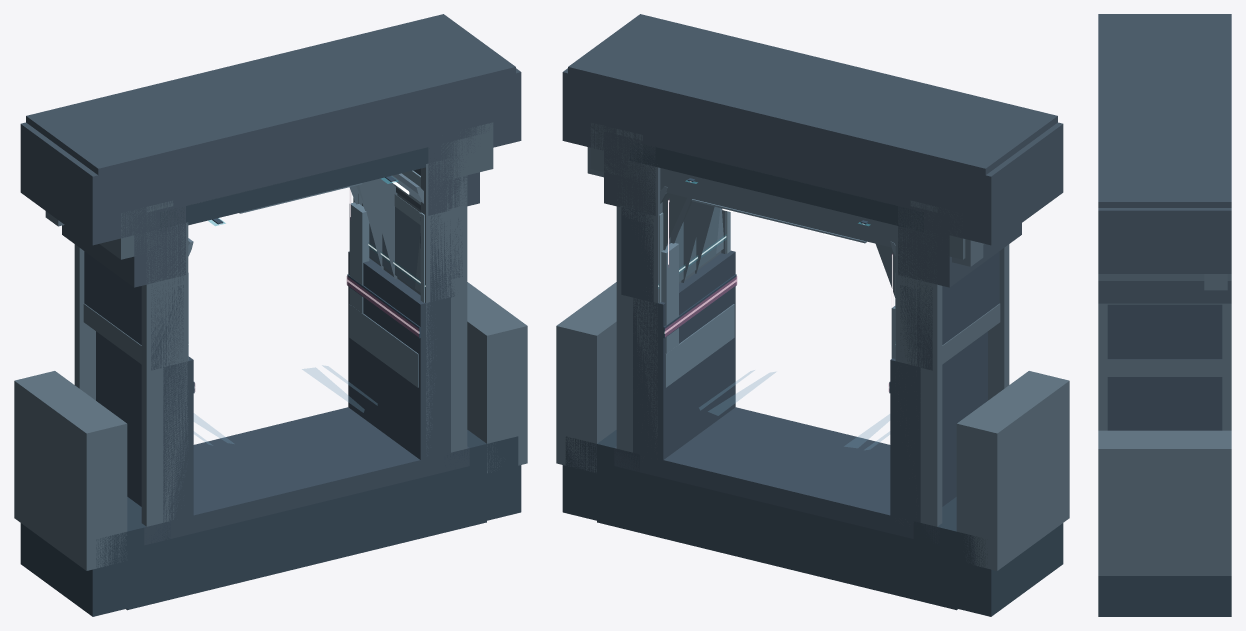
The model's file is continuum-architecture-v7.gltf.
3 renders of one model, left to right at view 1: azimuth 30°, elevation 25°; view 2: azimuth 150°, elevation 25°; view 3: azimuth 270°, elevation 25°, orthographic. The views are drawn at different scales.
Parts seen in each view (by area): view 1: PANORAMA_START_SHELL, SERVICE_VAULT_SHELL, PANORAMA_START_INLAY, SERVICE_VAULT_INLAY, PANORAMA_END_SHELL, GATE_INLAY, PANORAMA_START_HALO; view 2: PANORAMA_START_SHELL, PANORAMA_END_SHELL, SERVICE_VAULT_SHELL, GATE_SHELL, PANORAMA_START_INLAY, GATE_INLAY, SERVICE_SPINE_SHELL, SERVICE_VAULT_INLAY, PANORAMA_START_HALO; view 3: PANORAMA_START_SHELL, SERVICE_VAULT_SHELL, PANORAMA_END_SHELL, GATE_SHELL.
Boxes of the visible parts, x1=… form: PANORAMA_START_SHELL: x1=14, y1=14, x2=527, y2=616; SERVICE_VAULT_SHELL: x1=84, y1=177, x2=462, y2=370; PANORAMA_START_INLAY: x1=188, y1=170, x2=424, y2=393; SERVICE_VAULT_INLAY: x1=239, y1=183, x2=420, y2=289; PANORAMA_END_SHELL: x1=74, y1=194, x2=361, y2=400; GATE_INLAY: x1=349, y1=202, x2=369, y2=313; PANORAMA_START_HALO: x1=209, y1=178, x2=419, y2=336; PANORAMA_START_SHELL: x1=556, y1=14, x2=1069, y2=616; PANORAMA_END_SHELL: x1=616, y1=155, x2=942, y2=526; SERVICE_VAULT_SHELL: x1=621, y1=201, x2=999, y2=370; GATE_SHELL: x1=587, y1=147, x2=983, y2=297; PANORAMA_START_INLAY: x1=660, y1=178, x2=895, y2=393; GATE_INLAY: x1=661, y1=199, x2=895, y2=358; SERVICE_SPINE_SHELL: x1=662, y1=193, x2=895, y2=296; SERVICE_VAULT_INLAY: x1=669, y1=207, x2=720, y2=281; PANORAMA_START_HALO: x1=665, y1=181, x2=868, y2=336; PANORAMA_START_SHELL: x1=1098, y1=14, x2=1231, y2=616; SERVICE_VAULT_SHELL: x1=1107, y1=304, x2=1222, y2=359; PANORAMA_END_SHELL: x1=1222, y1=303, x2=1231, y2=430; GATE_SHELL: x1=1204, y1=274, x2=1227, y2=290.
Size of the model in its own units: 56.4 by 54.8 by 16.
